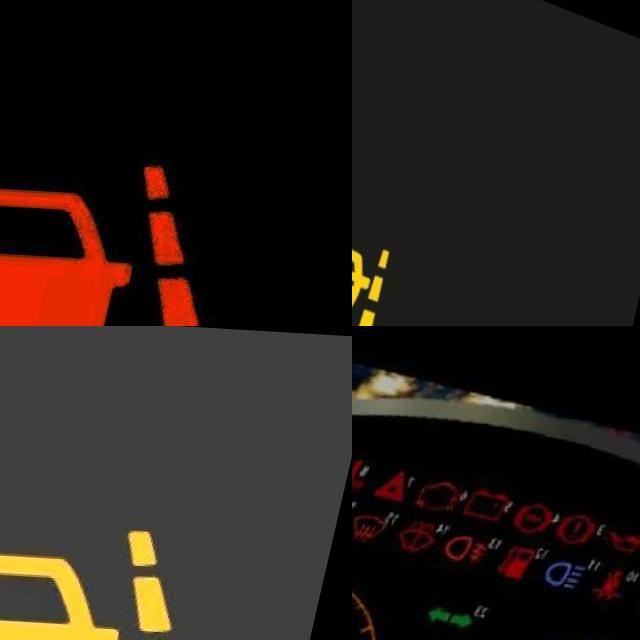Engine cooling system: (352, 439, 395, 482)
Low fuel level: (514, 529, 560, 574)
